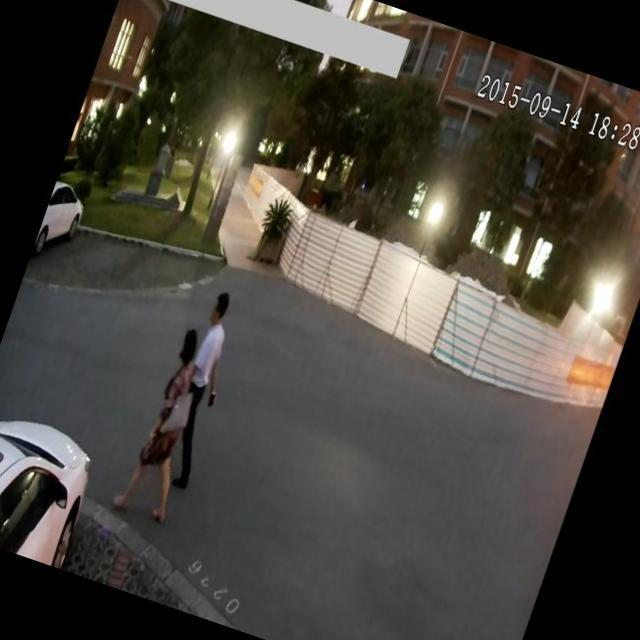person: (104, 318, 231, 531), (149, 280, 257, 498)
